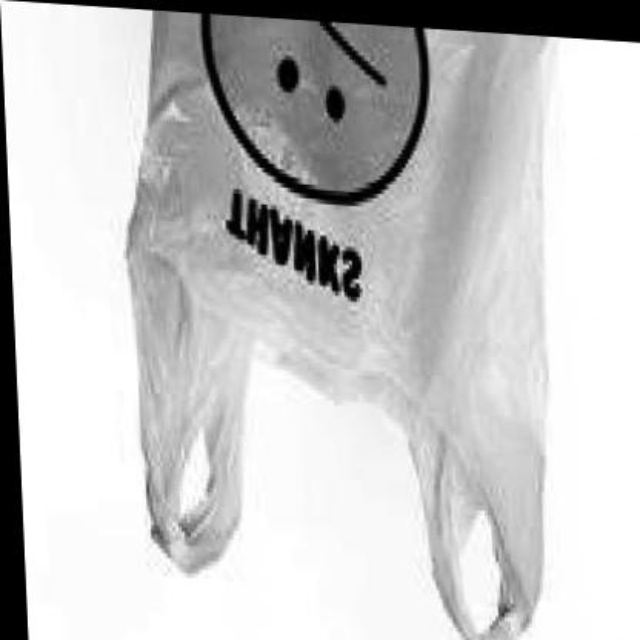trash: (128, 14, 546, 638)
